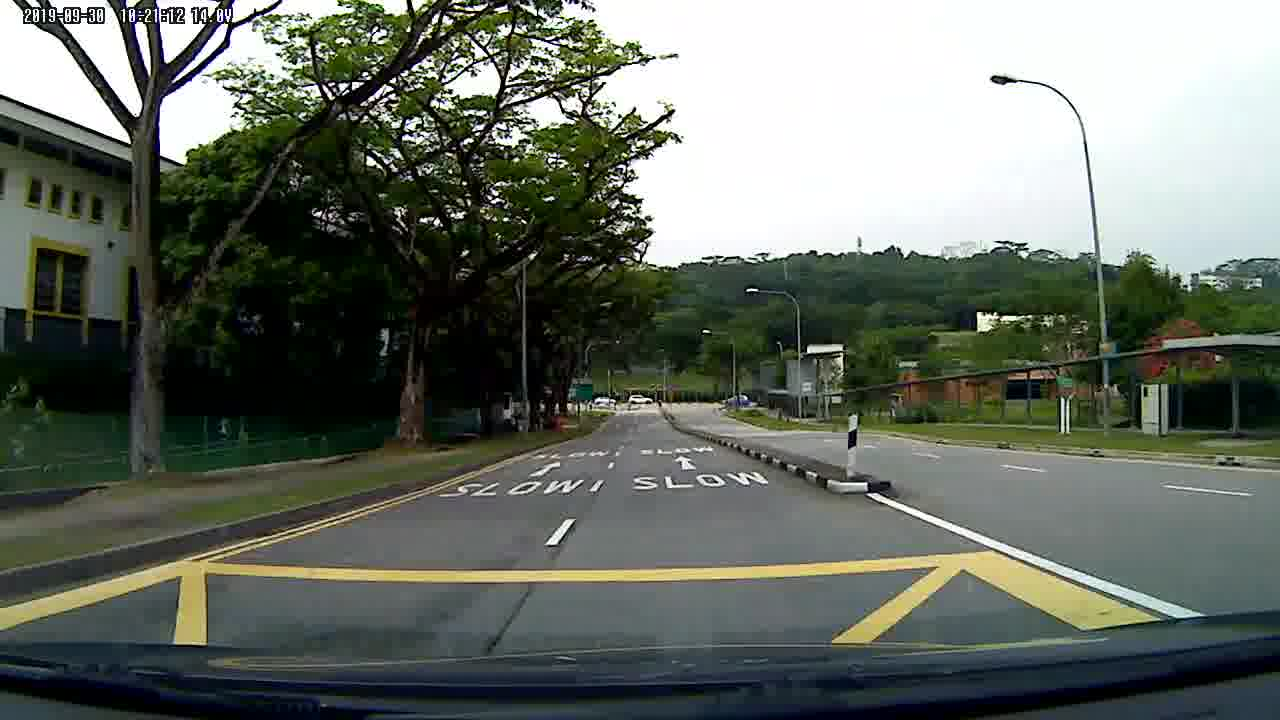car: (627, 392, 653, 407), (595, 394, 618, 405)
